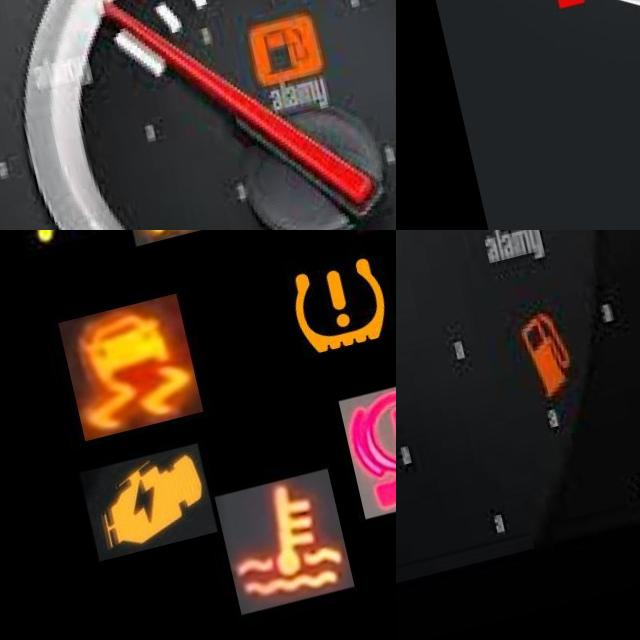Engine cooling system: (192, 482, 327, 623)
